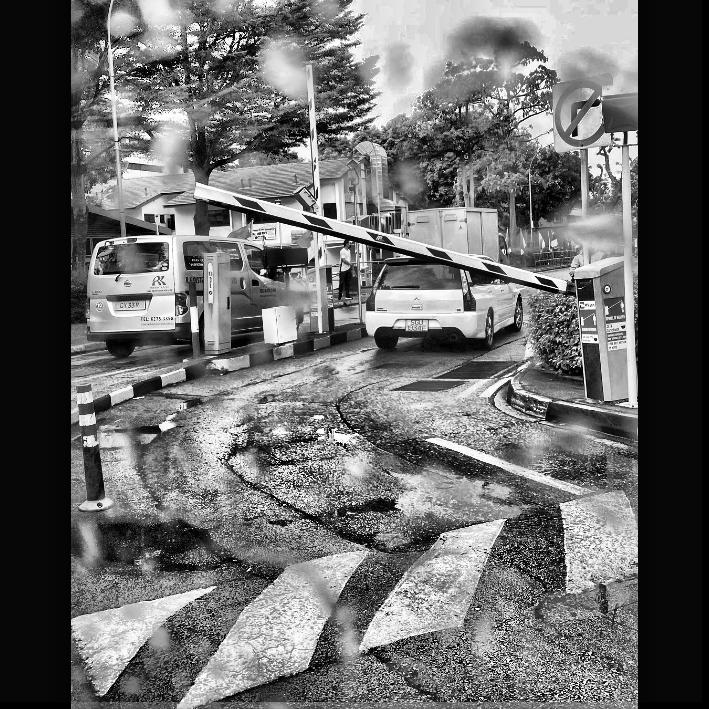License-Plates: (405, 319, 428, 331), (114, 301, 144, 310)
